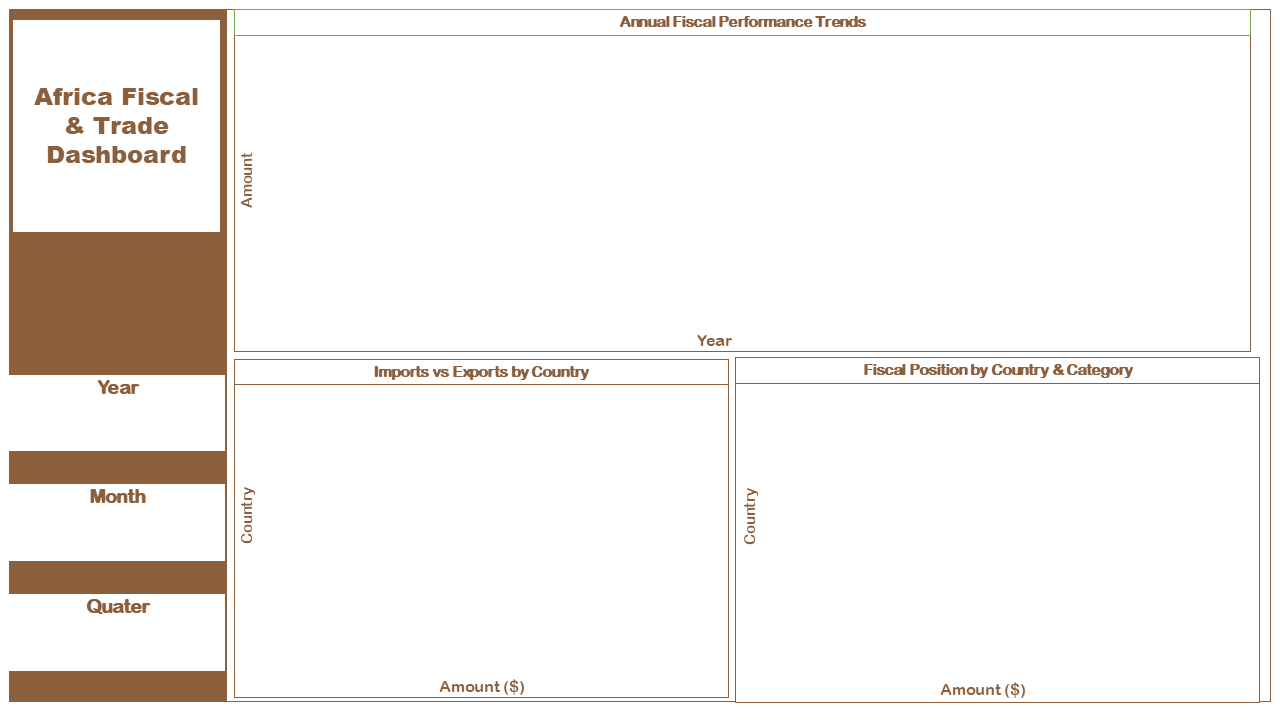

The dashboard page shown, as its layout file describes it:
{"tool":"powerbi","page":{"name":"Page 5","canvas":[1280,720],"ordinal":4},"visuals":[{"type":"clusteredBarChart","title":"Imports vs Exports by Country","fields":{"Category":["Dim_Country.Country"],"Y":["Sum(fact_economic_data_cleaned.Amount_USD)"],"Series":["Dim_Indicator.Indicator"]},"box":[257,387.1,466.8,289.5],"z":0},{"type":"lineChart","title":"Annual Fiscal Performance Trends","fields":{"Category":["Calendar.Year"],"Y":["Sum(fact_economic_data_cleaned.Amount_USD)"],"Series":["Dim_Indicator.Indicator"]},"box":[257,35.8,982.4,291.2],"z":1000},{"type":"clusteredColumnChart","title":"Fiscal Position by Country & Category","fields":{"Category":["Dim_Country.Country"],"Series":["Dim_Indicator.Indicator_Category"],"Y":["Sum(fact_economic_data_cleaned.Amount_USD)"]},"box":[759.6,382.2,494.5,294.4],"z":2000},{"type":"slicer","fields":{"Values":["Calendar.Year"]},"box":[6.5,390.4,218,71.6],"z":3000},{"type":"slicer","fields":{"Values":["Calendar.Month"]},"box":[17.9,497.7,206.6,53.7],"z":4000},{"type":"slicer","fields":{"Values":["Calendar.Quarter"]},"box":[11.4,613.2,206.6,53.7],"z":5000}]}

Visuals, with their boxes in screenshot pixels (x1, y1, x2, y2), scaled from the page's 1280x720 canvas onto the 1280x720 screenshot:
"Imports vs Exports by Country" clusteredBarChart: bbox(257, 387, 724, 677)
"Annual Fiscal Performance Trends" lineChart: bbox(257, 36, 1239, 327)
"Fiscal Position by Country & Category" clusteredColumnChart: bbox(760, 382, 1254, 677)
slicer - Calendar.Year: bbox(6, 390, 224, 462)
slicer - Calendar.Month: bbox(18, 498, 224, 551)
slicer - Calendar.Quarter: bbox(11, 613, 218, 667)
